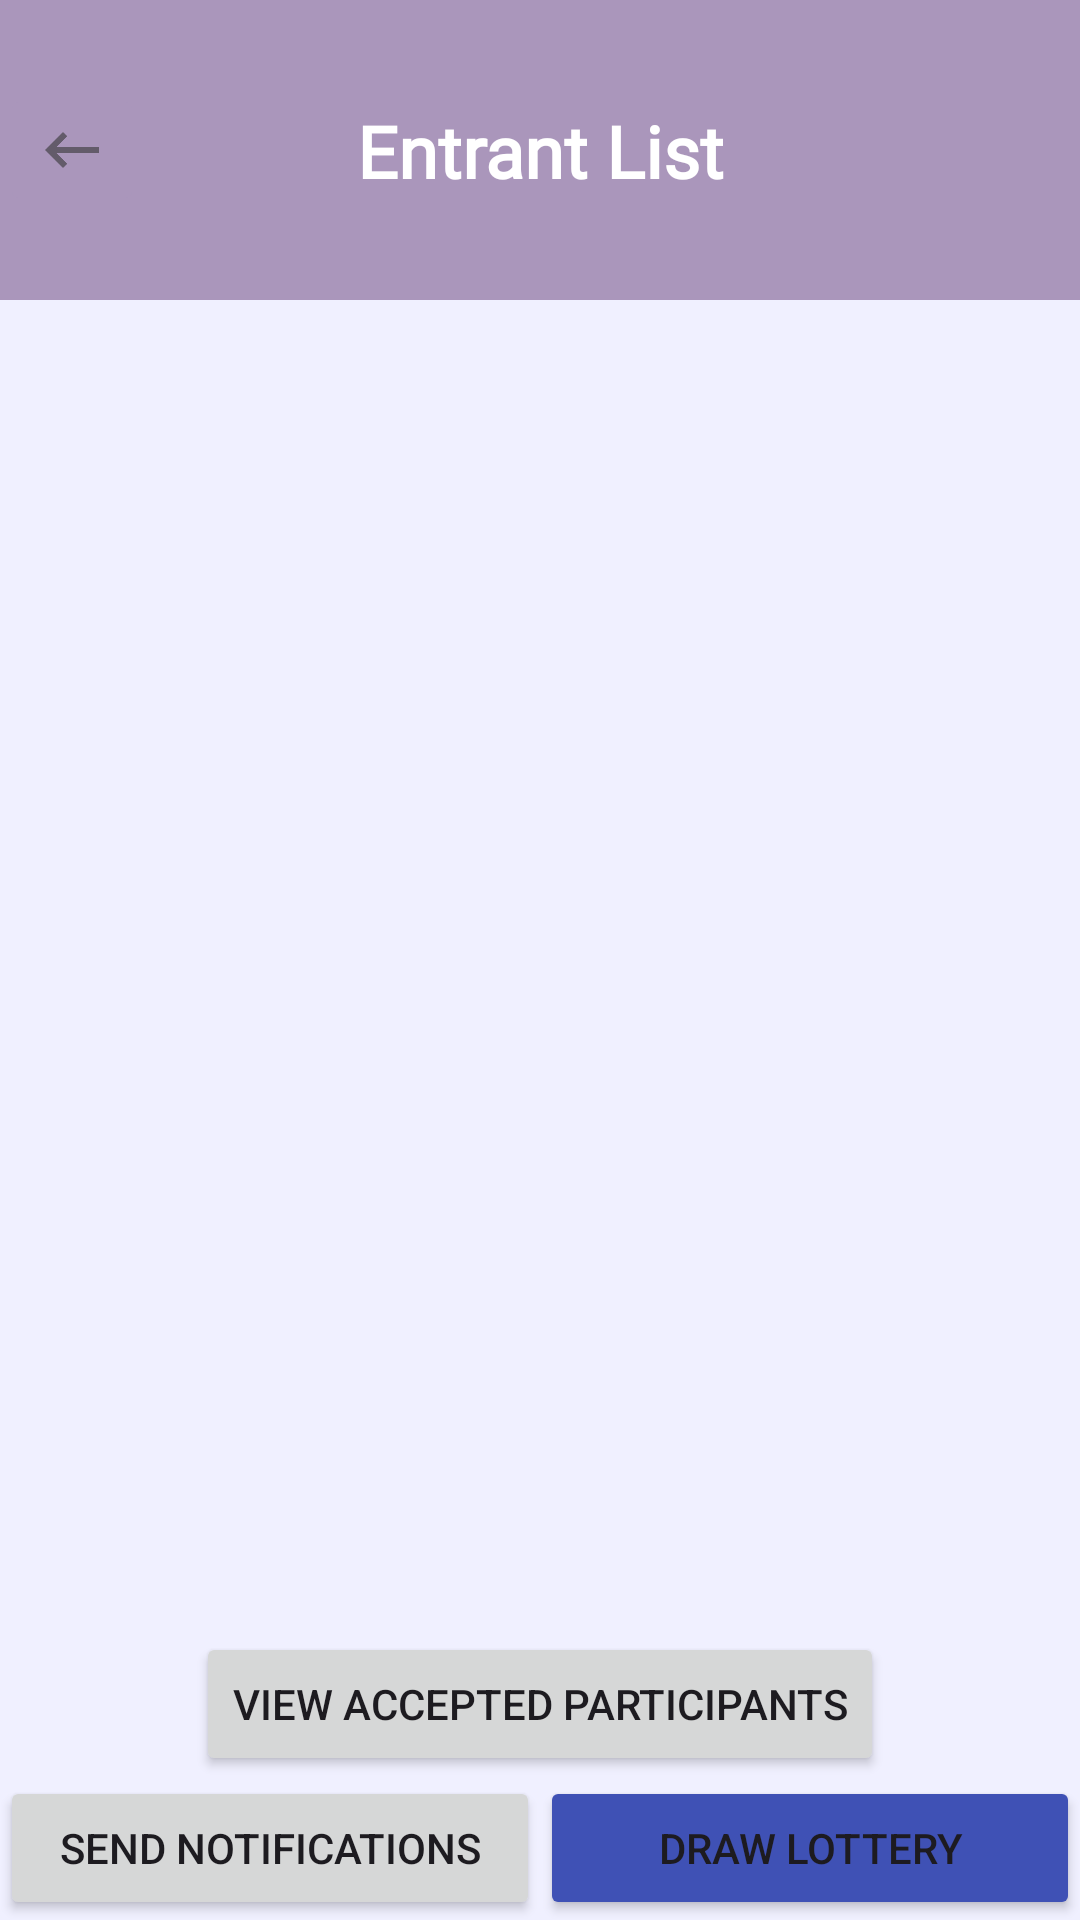

Where to tap for icons on this 1080 × 1920 app screen, as [x,y]:
back: [72,150]
